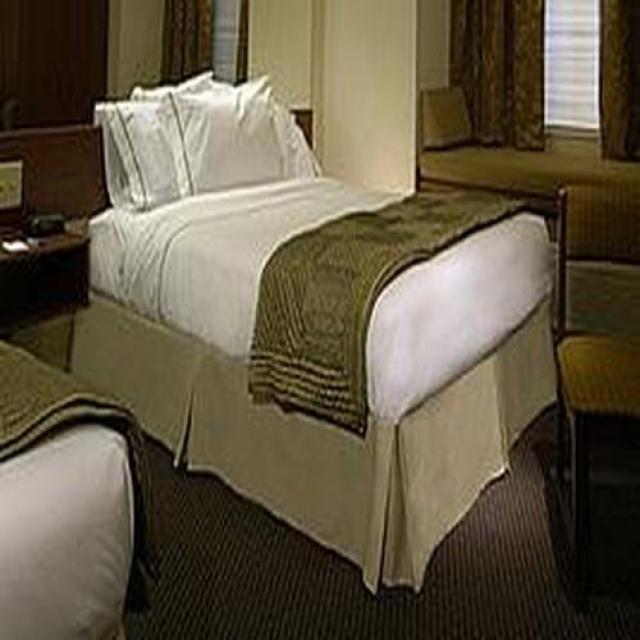bed: (69, 105, 557, 594)
